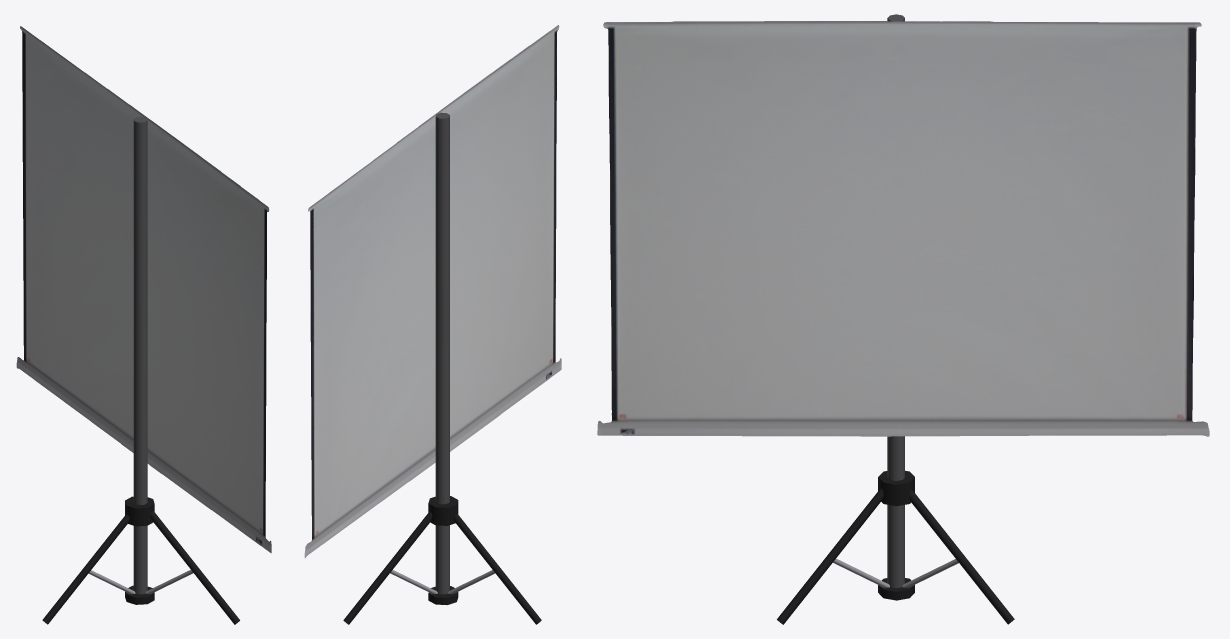
Rendered from projector screen1.FBX.
The picture shows the model from 3 angles, left to right: view 1: azimuth 30°, elevation 25°; view 2: azimuth 150°, elevation 25°; view 3: azimuth 270°, elevation 25°; orthographic projection. The views are drawn at different scales.
Visible parts, largest first — view 1: projector screen1; view 2: projector screen1; view 3: projector screen1.
Part boxes in pixels (x1,y1,x2,y2): projector screen1: (16,26,271,624); projector screen1: (304,25,561,624); projector screen1: (597,14,1209,624).
Size of the model in its own units: 4.69 by 14.69 by 14.16.
